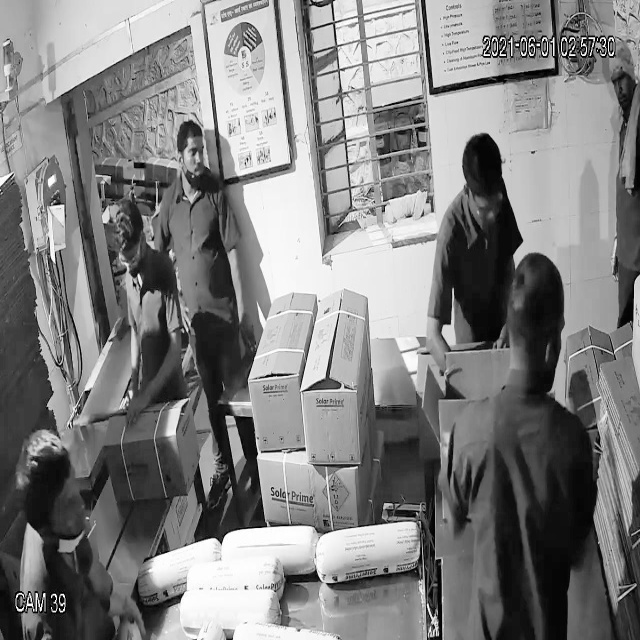Gafas: (113, 240, 148, 276)
